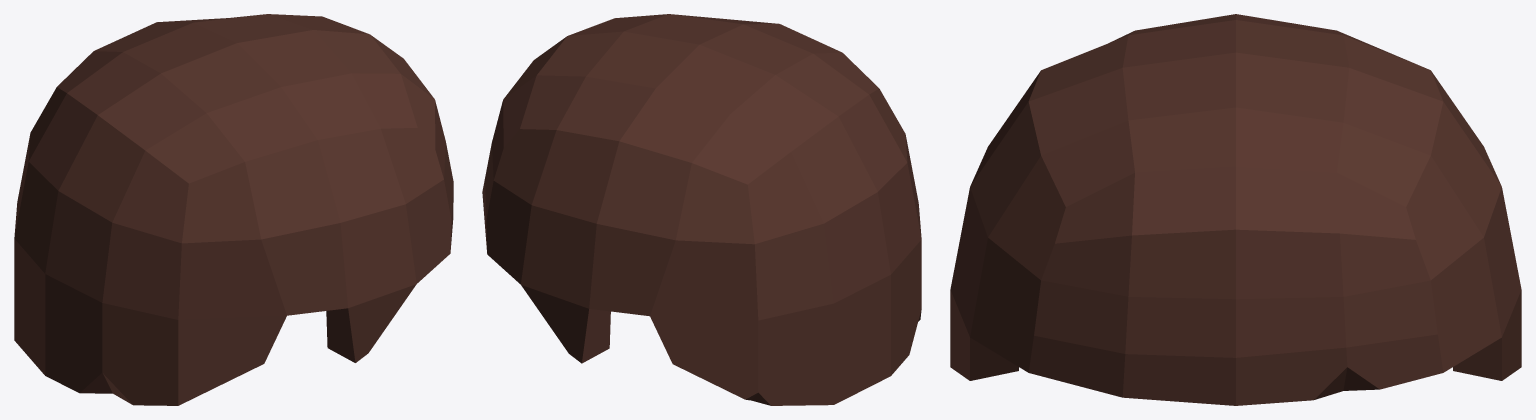
File: ManHairBrown.fbx
3 renders of one model, left to right at view 1: azimuth 30°, elevation 25°; view 2: azimuth 150°, elevation 25°; view 3: azimuth 270°, elevation 25°, orthographic. The views are drawn at different scales.
Visible parts, largest first — view 1: Cube; view 2: Cube; view 3: Cube.
Boxes of the visible parts, x1,y1,x2,y2 form: Cube: (14, 14, 453, 405); Cube: (482, 14, 921, 405); Cube: (950, 14, 1521, 405).
Bounding box in the file's own units: 165 × 119 × 168.
